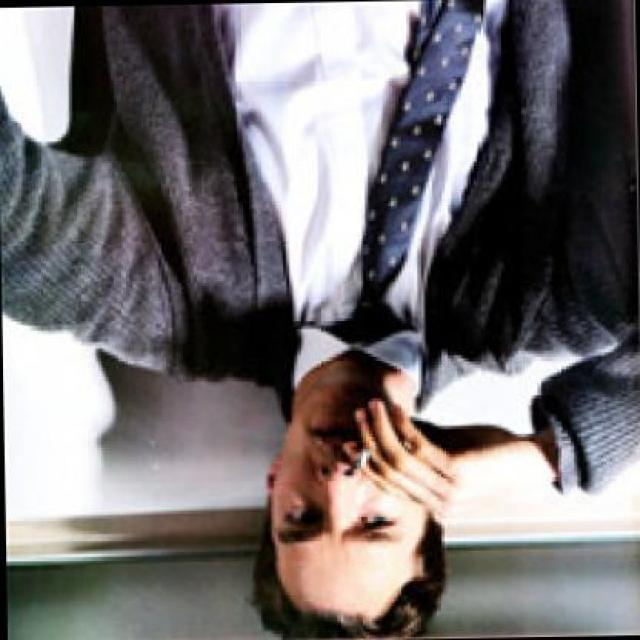cigarette: (346, 442, 372, 468)
